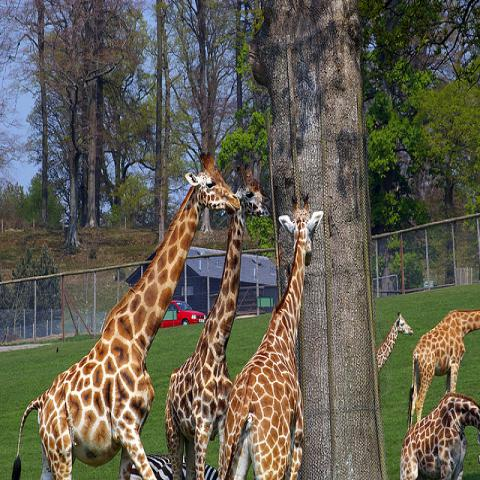car: (159, 300, 206, 328)
